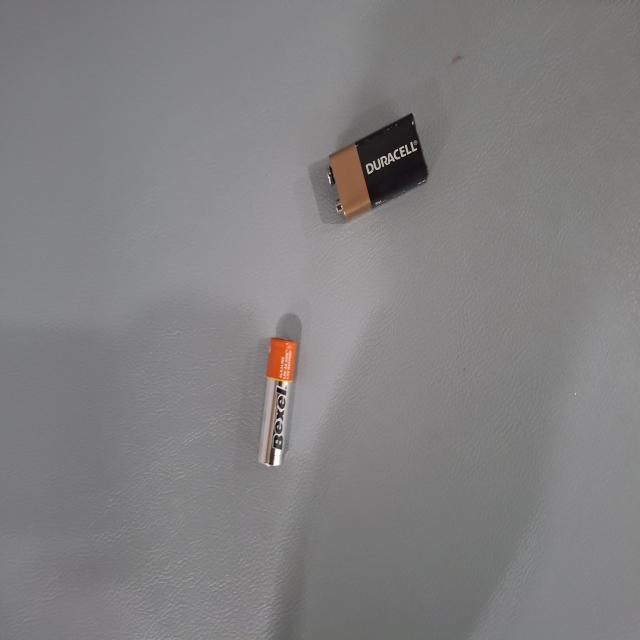9V: (312, 431, 394, 571)
AA: (130, 343, 226, 396)
